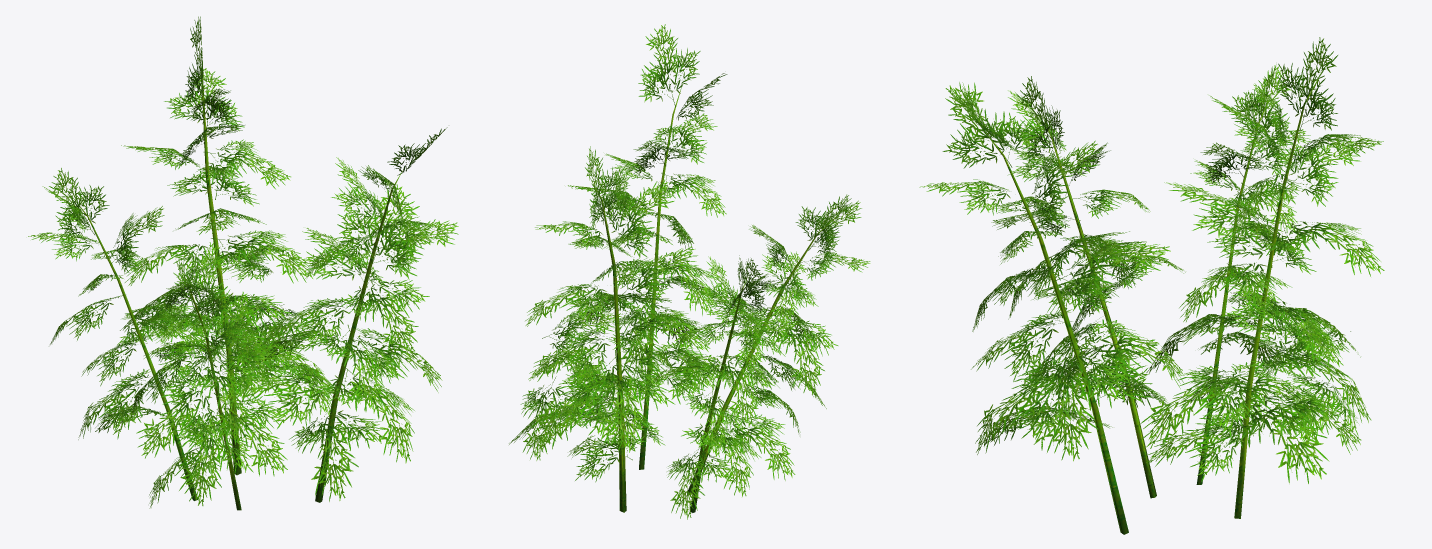
File: zhsly_03.FBX
3 renders of one model, left to right at view 1: azimuth 30°, elevation 25°; view 2: azimuth 150°, elevation 25°; view 3: azimuth 270°, elevation 25°, orthographic. The views are drawn at different scales.
Parts seen in each view (by area): view 1: zhsly_03; view 2: zhsly_03; view 3: zhsly_03.
Part boxes in pixels (x1,y1,x2,y2): zhsly_03: (28,16,458,510); zhsly_03: (509,24,870,519); zhsly_03: (919,37,1384,534).
Size of the model in its own units: 608 by 725 by 678.
